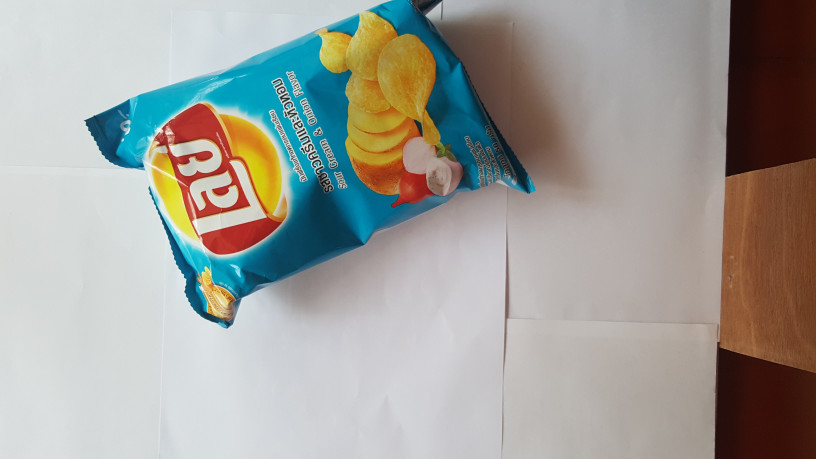lays-onion: (96, 1, 524, 347)
